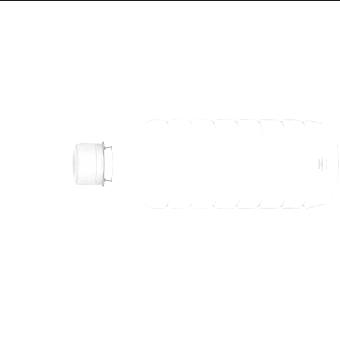bottle: (70, 115, 338, 207)
